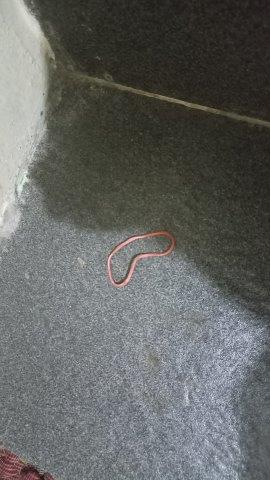karet: (107, 230, 176, 287)
